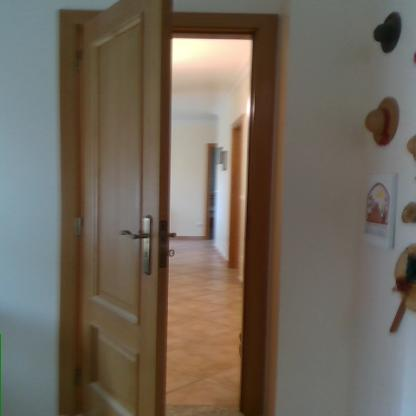semi: (52, 0, 299, 416)
